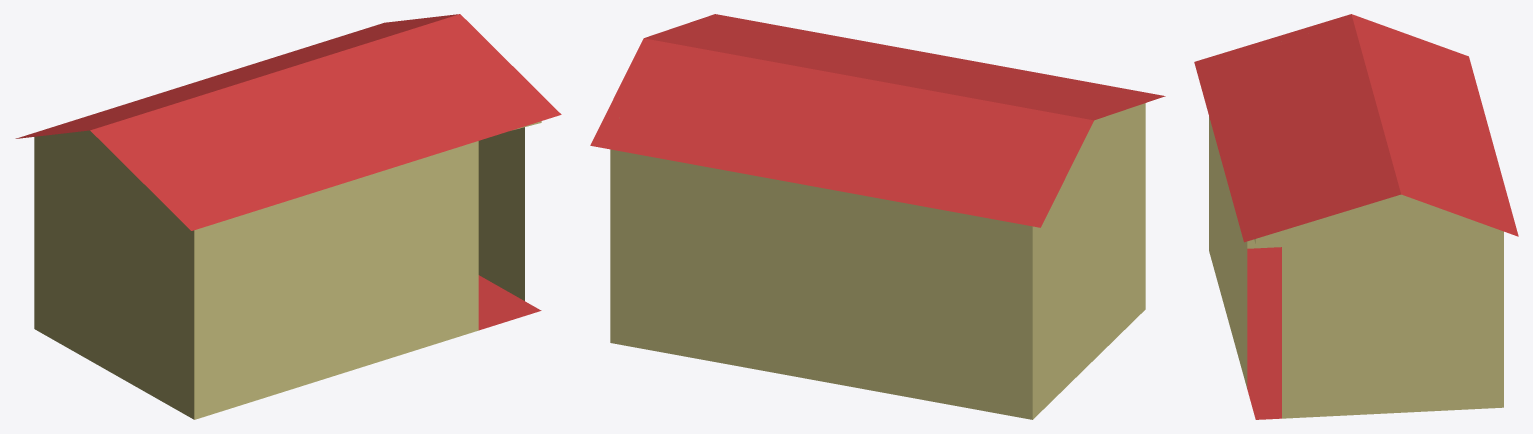
3 views of the same model, side by side, from view 1: azimuth 30°, elevation 25°; view 2: azimuth 150°, elevation 25°; view 3: azimuth 270°, elevation 25° (orthographic). The views are drawn at different scales.
Size of the model in its own units: 17.17 by 12.14 by 9.24.
